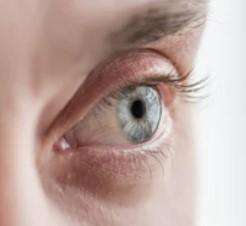eye: (116, 85, 163, 144)
